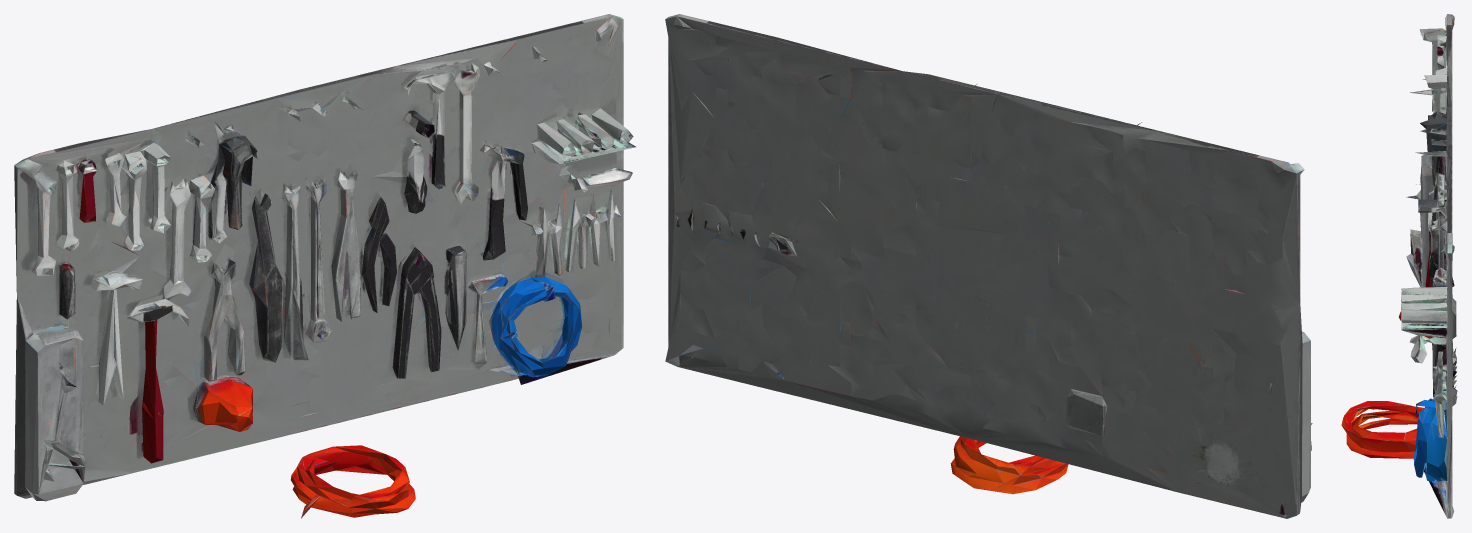
Rendered from garage_toolwall.glb.
The picture shows the model from 3 angles, left to right: view 1: azimuth 30°, elevation 25°; view 2: azimuth 150°, elevation 25°; view 3: azimuth 270°, elevation 25°; orthographic projection. The views are drawn at different scales.
Bounding box in the file's own units: 1.9 × 1.15 × 0.3896.
Materials: 1 (1 with a texture image).
